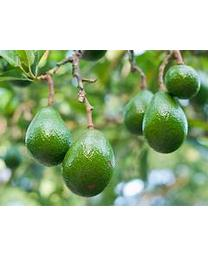avocado: (60, 129, 115, 197), (24, 105, 71, 167), (142, 91, 188, 153), (124, 91, 156, 135), (163, 64, 202, 99)
